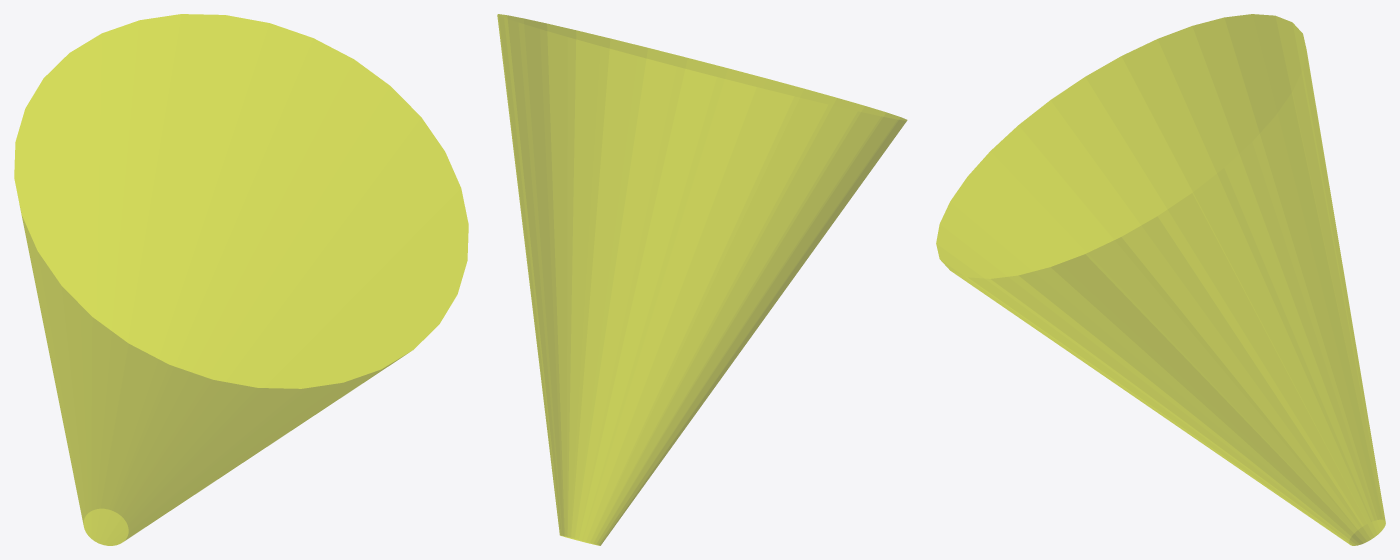
The model's file is view_cone.dae.
3 views of the same model, side by side, from view 1: azimuth 30°, elevation 25°; view 2: azimuth 150°, elevation 25°; view 3: azimuth 270°, elevation 25° (orthographic). The views are drawn at different scales.
Visible parts, largest first — view 1: Cone; view 2: Cone; view 3: Cone.
Boxes of the visible parts, box(x1,y1,x2,y2) form: Cone: box(14, 14, 468, 545); Cone: box(497, 14, 907, 545); Cone: box(936, 14, 1385, 545).
Size of the model in its own units: 4 by 4.21 by 5.08.
